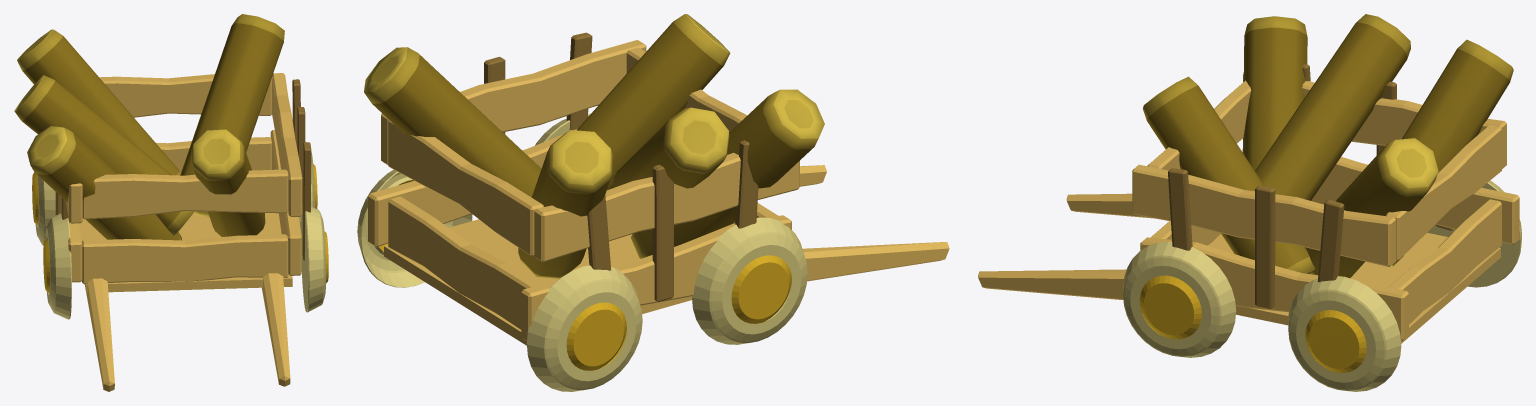
The model's file is tachka.fbx.
3 renders of one model, left to right at view 1: azimuth 30°, elevation 25°; view 2: azimuth 150°, elevation 25°; view 3: azimuth 270°, elevation 25°, orthographic. The views are drawn at different scales.
Visible parts, largest first — view 1: Plane; view 2: Plane; view 3: Plane.
Boxes of the visible parts, <box> form: Plane: <box>14,14,328,391</box>; Plane: <box>357,14,949,391</box>; Plane: <box>978,14,1521,391</box>.
Size of the model in its own units: 329 by 197 by 398.
